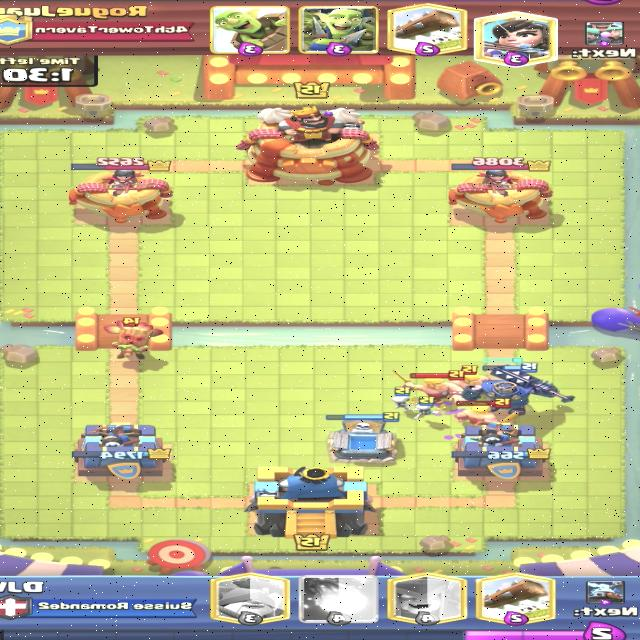Enemy-Barbarian: (390, 369, 468, 411), (454, 398, 520, 427), (456, 365, 500, 399)
Enemy-DartGoblin: (104, 316, 168, 359)
Player-Skeleton: (385, 386, 420, 410), (408, 397, 443, 420)
Player-SkeletonKing: (461, 357, 577, 419)
Player-Tombstone: (323, 412, 402, 464)
